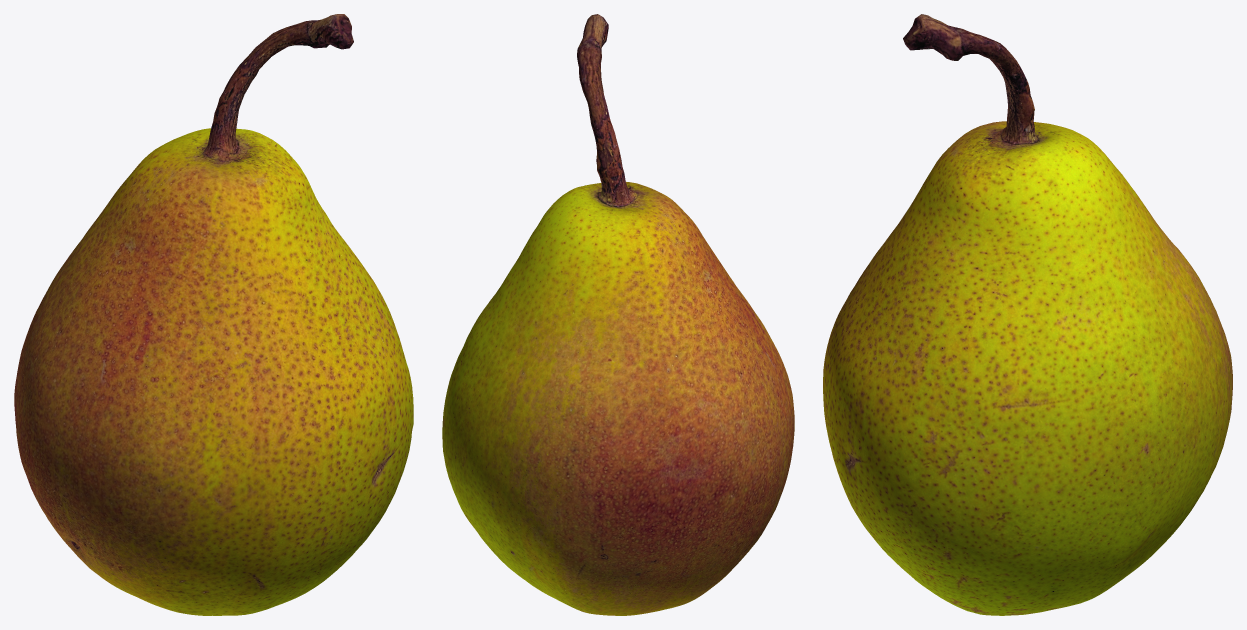
File: pear.glb
The picture shows the model from 3 angles, left to right: view 1: azimuth 30°, elevation 25°; view 2: azimuth 150°, elevation 25°; view 3: azimuth 270°, elevation 25°; orthographic projection. The views are drawn at different scales.
Visible parts, largest first — view 1: Object_2; view 2: Object_2; view 3: Object_2.
Boxes of the visible parts, x1,y1,x2,y2 form: Object_2: (14, 14, 413, 615); Object_2: (442, 14, 794, 615); Object_2: (823, 14, 1232, 615).
Bounding box in the file's own units: 0.3808 × 0.6357 × 0.383.
1 material, 1 textured.
